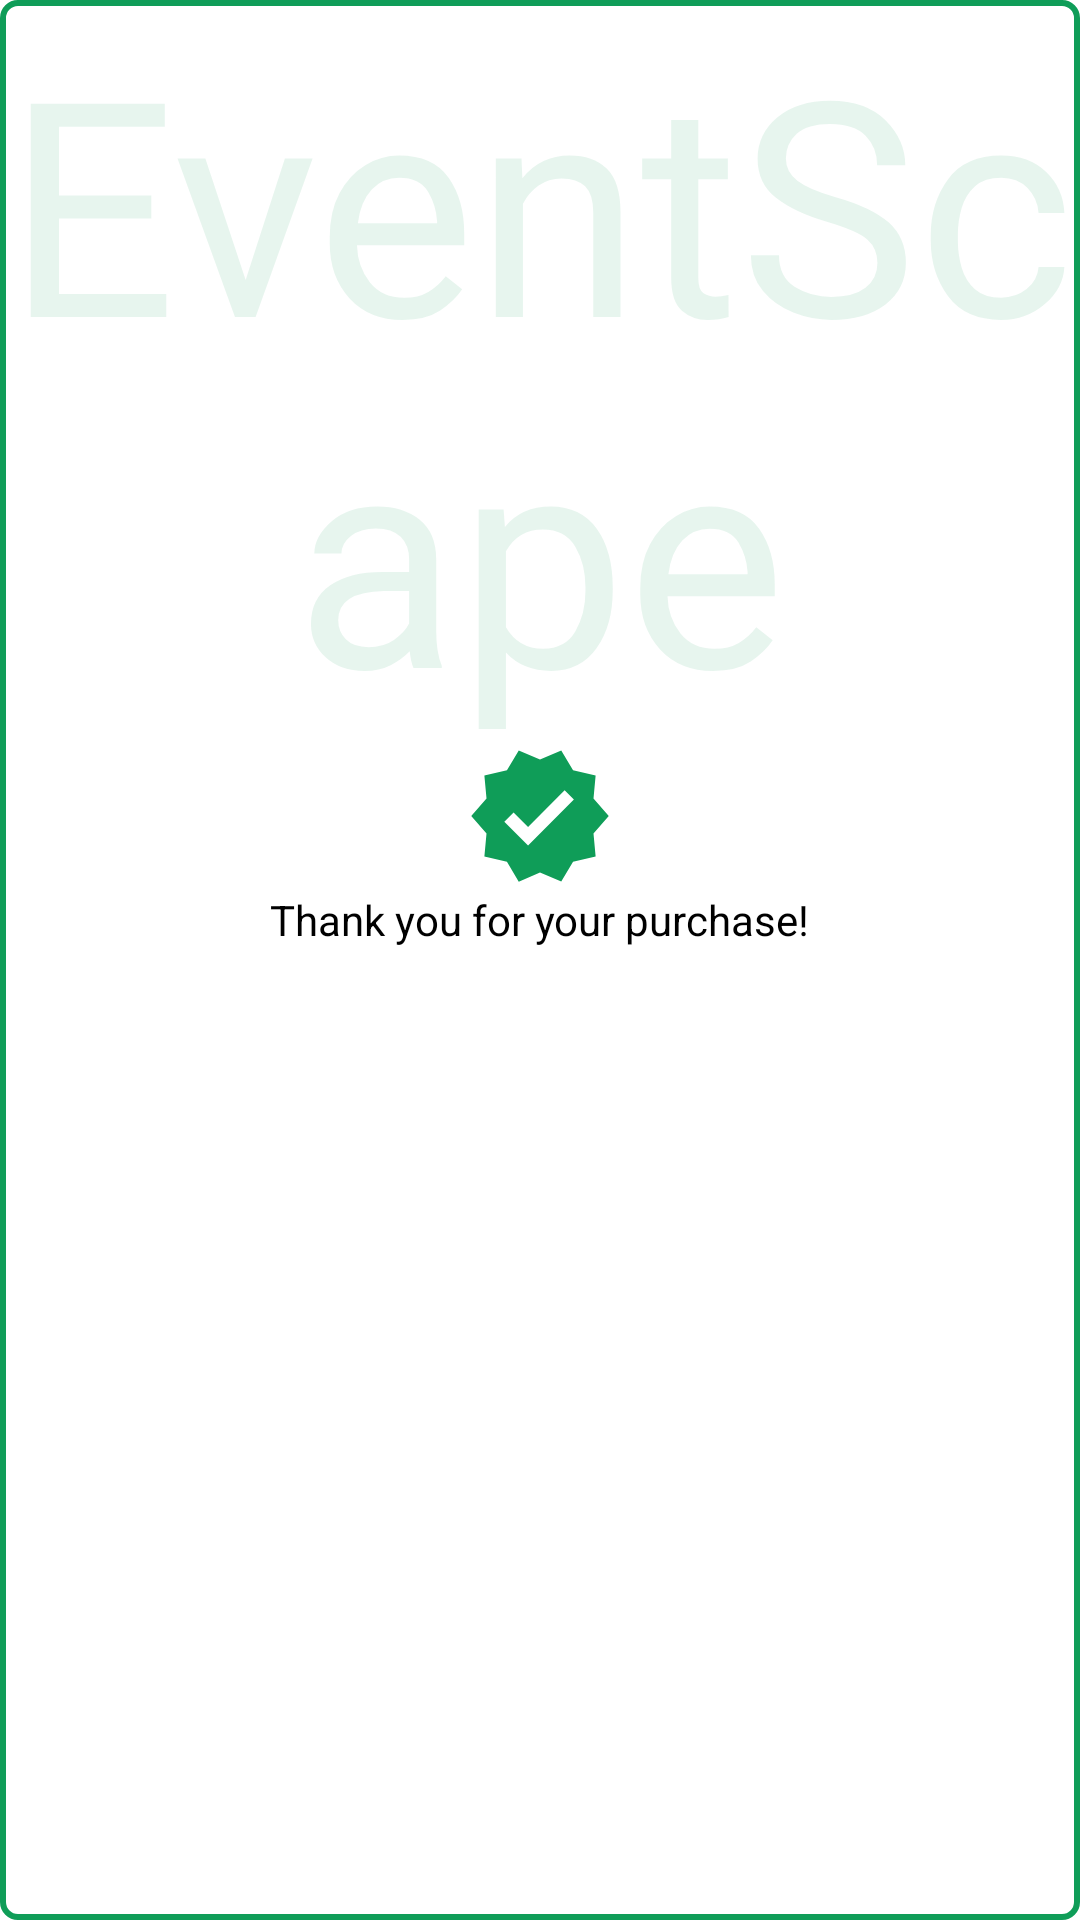

Locate icon controls on the screen. Image size 1080w x 1920h, boxes as Rect(x1, y1, x2, y2).
success: Rect(471, 750, 609, 882)
